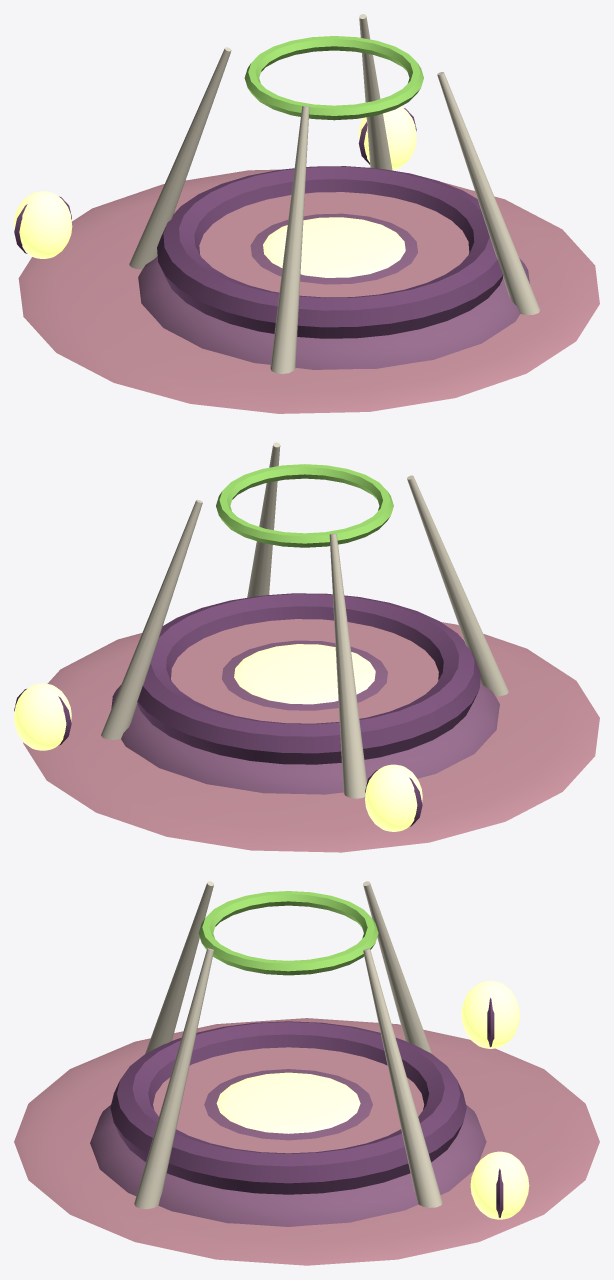
Rendered from starport_ins.glb.
3 views of the same model, one above another, from view 1: azimuth 30°, elevation 25°; view 2: azimuth 150°, elevation 25°; view 3: azimuth 270°, elevation 25° (orthographic).
Parts seen in each view (by area): view 1: starport_ins; view 2: starport_ins; view 3: starport_ins.
Part boxes in pixels (x1=…): starport_ins: x1=14, y1=14, x2=599, y2=413; starport_ins: x1=14, y1=442, x2=599, y2=852; starport_ins: x1=14, y1=881, x2=599, y2=1265.
Size of the model in its own units: 3.19 by 1.71 by 3.19.
